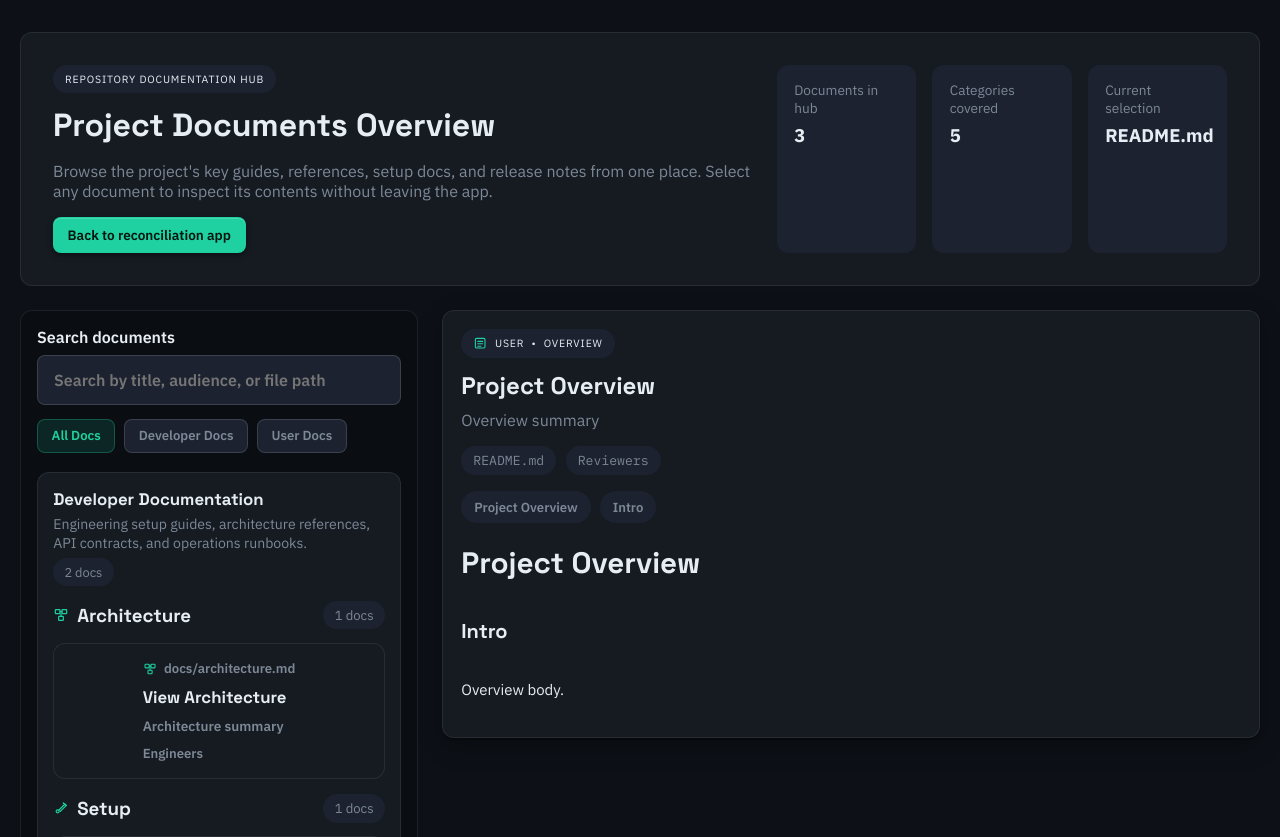
Test case: DocsOverview › filters the navigation by audience track buttons
Click the button "Developer Docs": (186, 436) top-left (124, 419), bottom-right (248, 453)
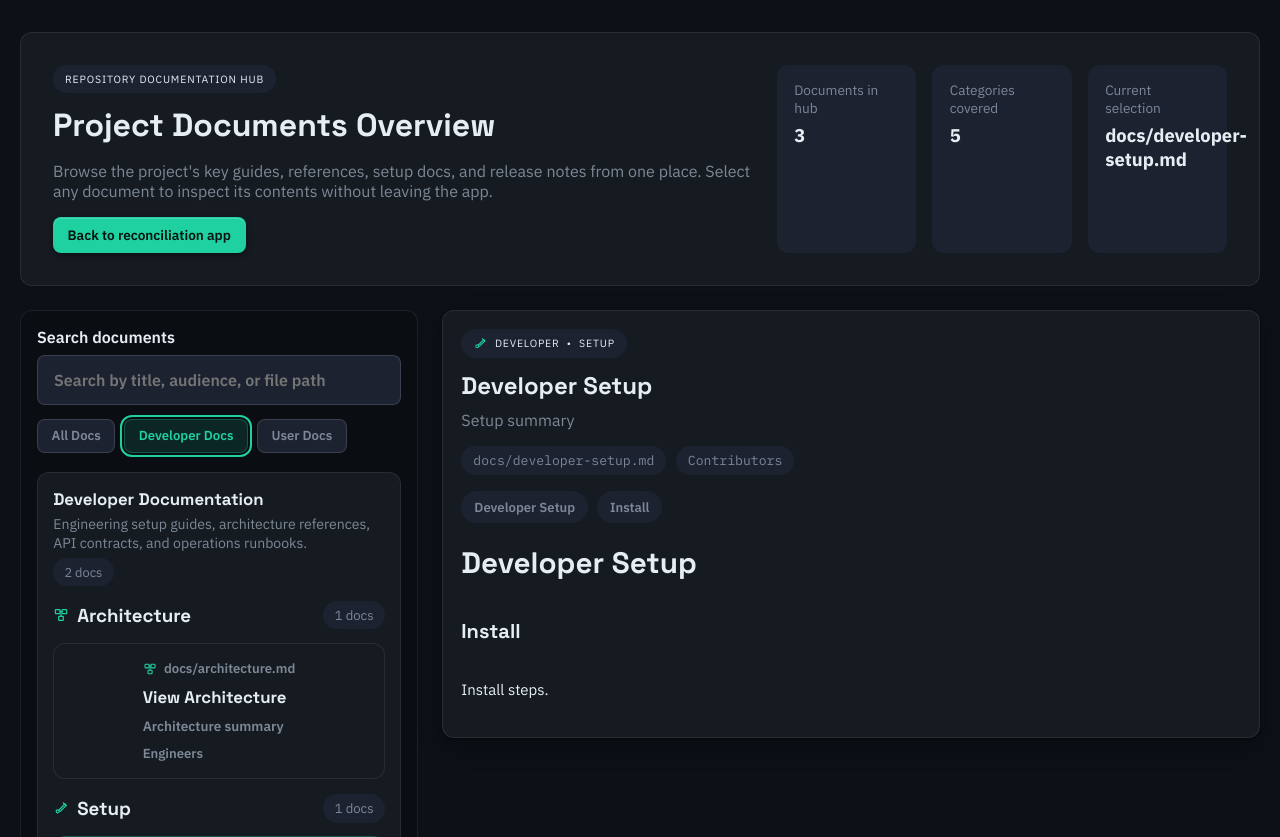
Expected: the button "Developer Docs" is pressed, top-left (124, 419), bottom-right (248, 453)
Click the button "User Docs": (302, 436) top-left (257, 419), bottom-right (347, 453)
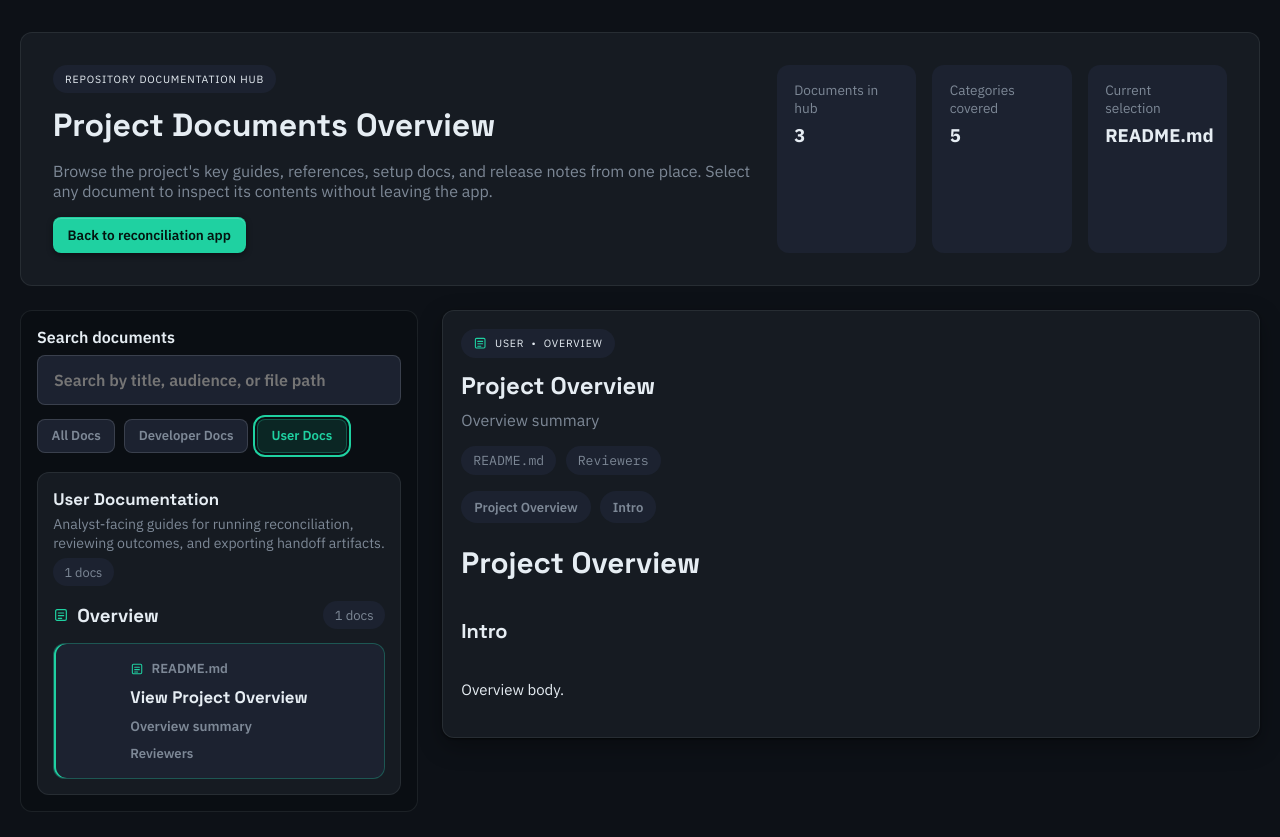
Expected: the button "README.md View Project Overview Overview summary Reviewers" is shown, top-left (53, 643), bottom-right (385, 779)
